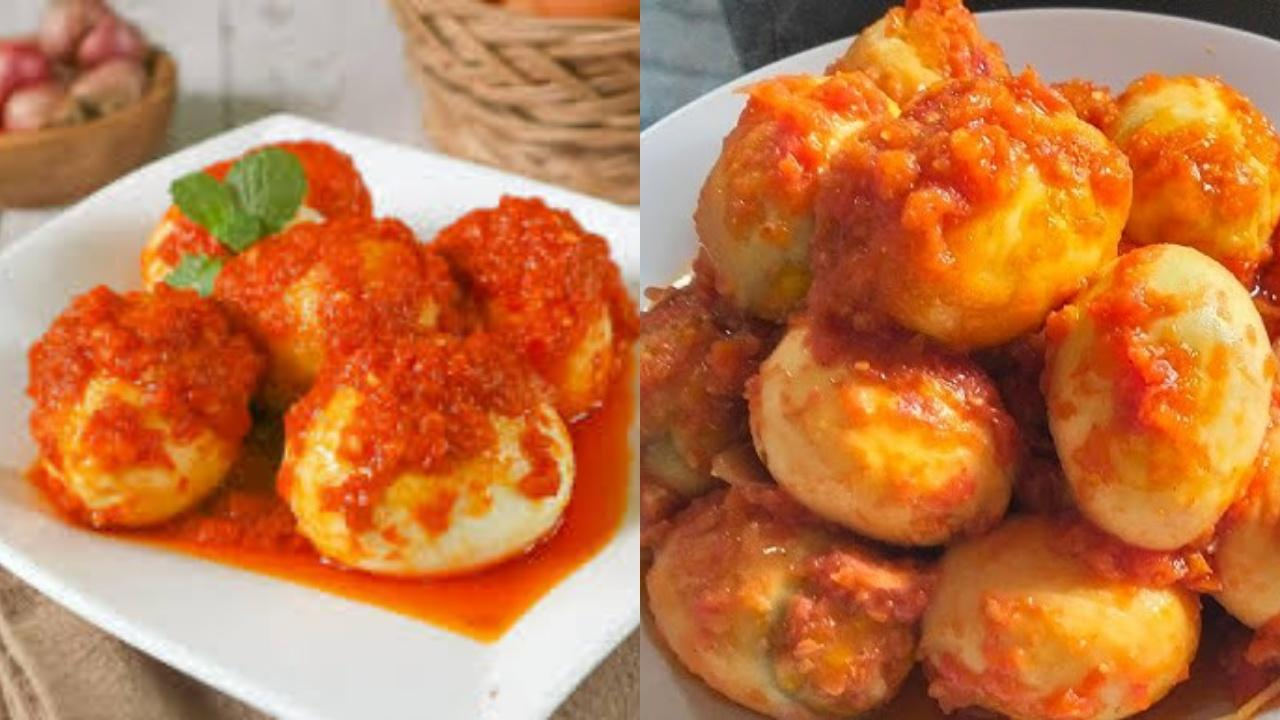telur: (702, 74, 1218, 711), (125, 200, 591, 579)
